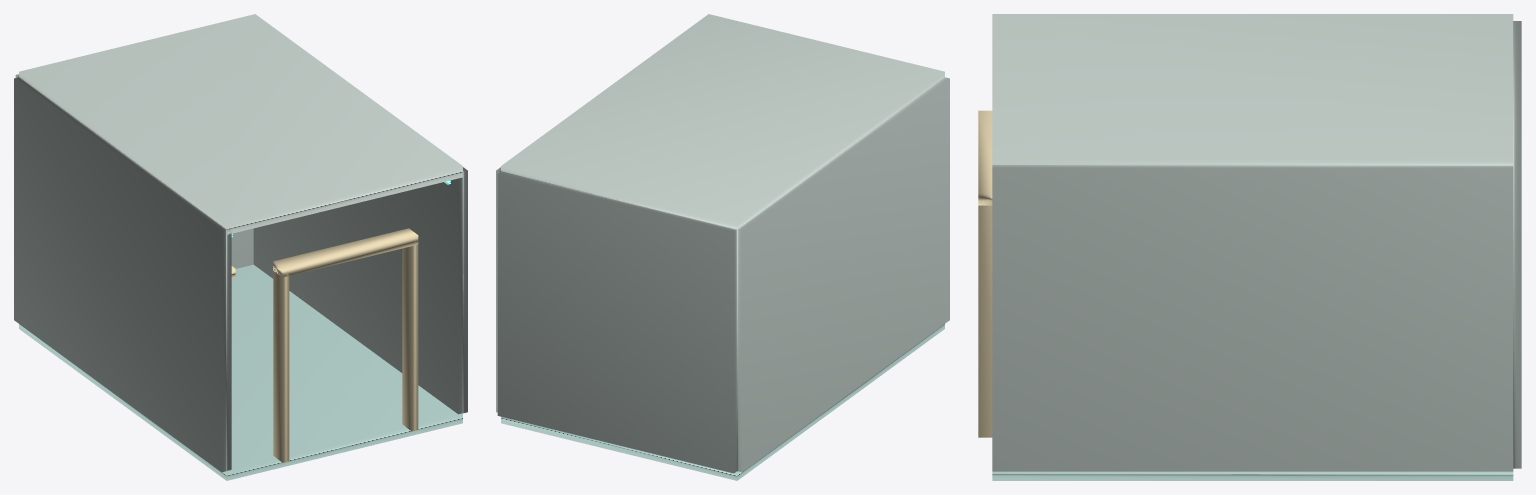
Rendered from food-packing-annex-shell.glb.
3 renders of one model, left to right at view 1: azimuth 30°, elevation 25°; view 2: azimuth 150°, elevation 25°; view 3: azimuth 270°, elevation 25°, orthographic. The views are drawn at different scales.
Parts seen in each view (by area): view 1: shell-material-5-0, shell-material-6-0, shell-material-8-0; view 2: shell-material-5-0, shell-material-6-0; view 3: shell-material-5-0, shell-material-6-0, shell-material-8-0.
Part boxes in pixels (box(x1,y1,x2,y2)): shell-material-5-0: box(14, 14, 467, 472); shell-material-6-0: box(19, 264, 462, 480); shell-material-8-0: box(231, 228, 418, 462); shell-material-5-0: box(496, 14, 949, 473); shell-material-6-0: box(501, 324, 944, 480); shell-material-5-0: box(992, 14, 1521, 471); shell-material-6-0: box(992, 471, 1513, 480); shell-material-8-0: box(978, 110, 992, 437).
Size of the model in its own units: 4.58 by 4.58 by 6.98.
